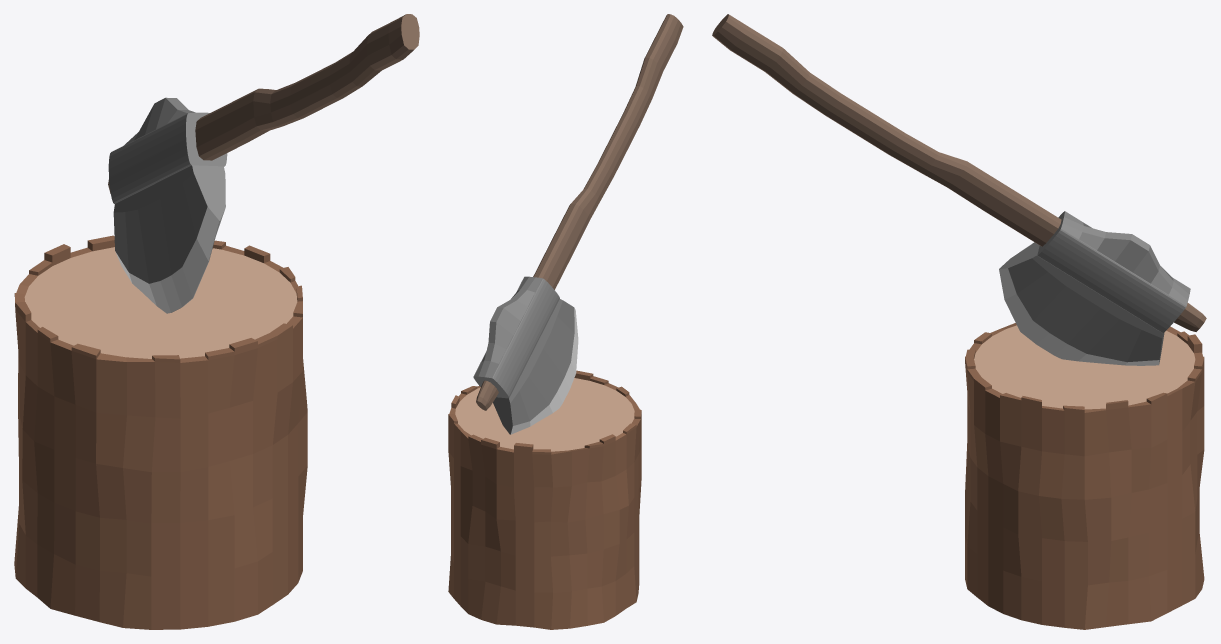
Rendered from slachtbijl1.fbx.
3 views of the same model, side by side, from view 1: azimuth 30°, elevation 25°; view 2: azimuth 150°, elevation 25°; view 3: azimuth 270°, elevation 25° (orthographic). The views are drawn at different scales.
Parts seen in each view (by area): view 1: Cylinder; view 2: Cylinder; view 3: Cylinder.
Boxes of the visible parts, x1,y1,x2,y2 form: Cylinder: [14, 14, 419, 629]; Cylinder: [448, 14, 683, 629]; Cylinder: [712, 14, 1206, 629].
Size of the model in its own units: 1.4 by 3.73 by 2.89.
